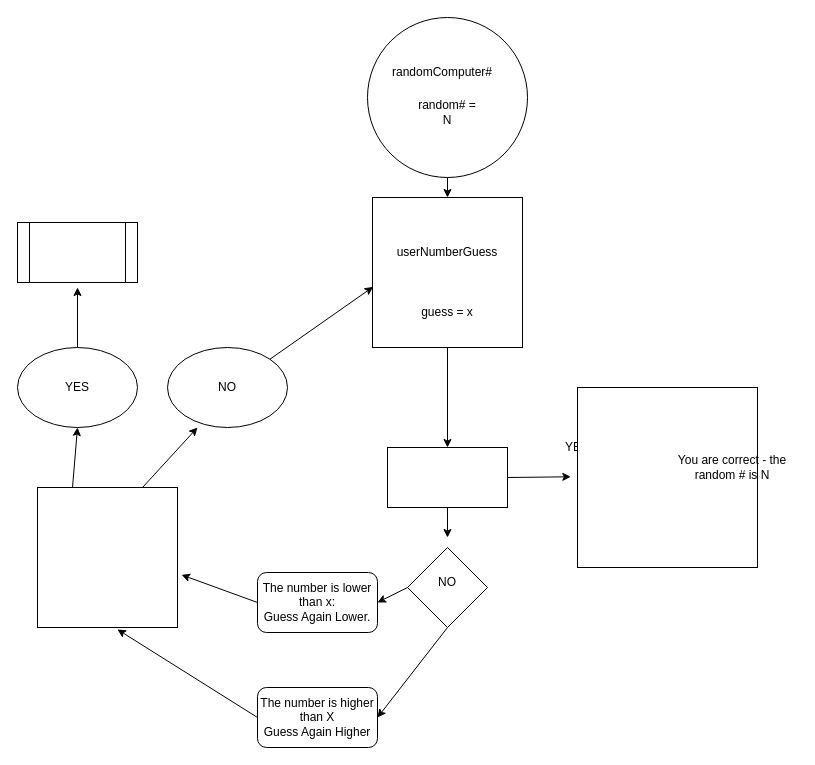
Some shapes in this 815 by 765 pixel diagram are drawn without their labels. Here are the shapes that lost their labels. From the top down, the box of each, then its label:
(16, 222, 138, 282): GAME OVER
(386, 446, 508, 508): x === N
(36, 486, 178, 628): #ofGuesses === totalGuess#
